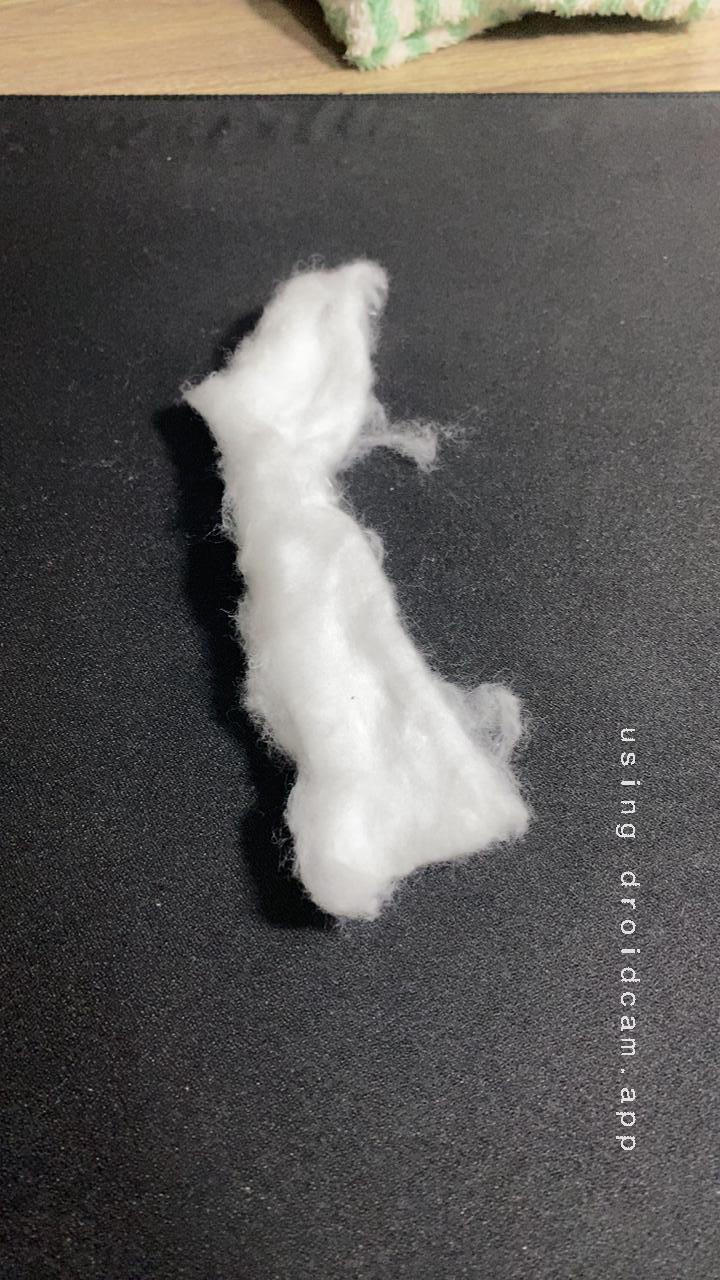cotton: (138, 203, 576, 943)
